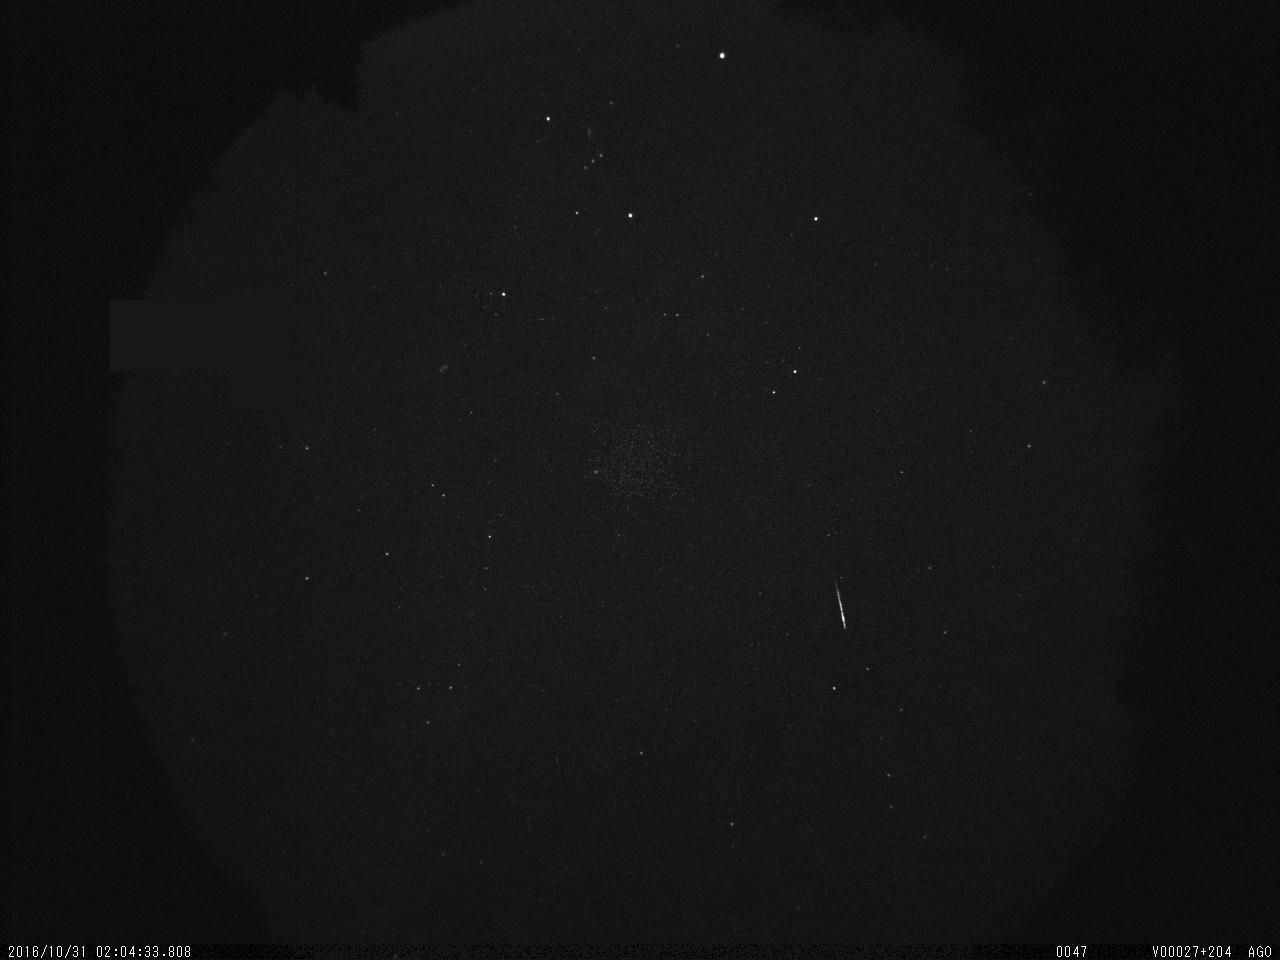Meteor: (833, 574, 849, 631)
